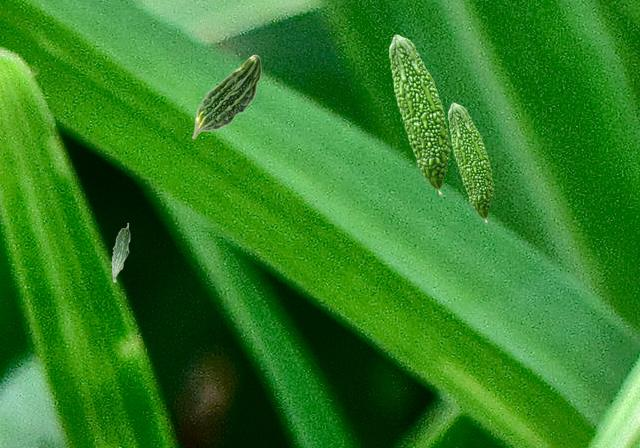ampalaya: (388, 34, 452, 197), (191, 54, 262, 139), (447, 102, 495, 224), (111, 222, 130, 283)
